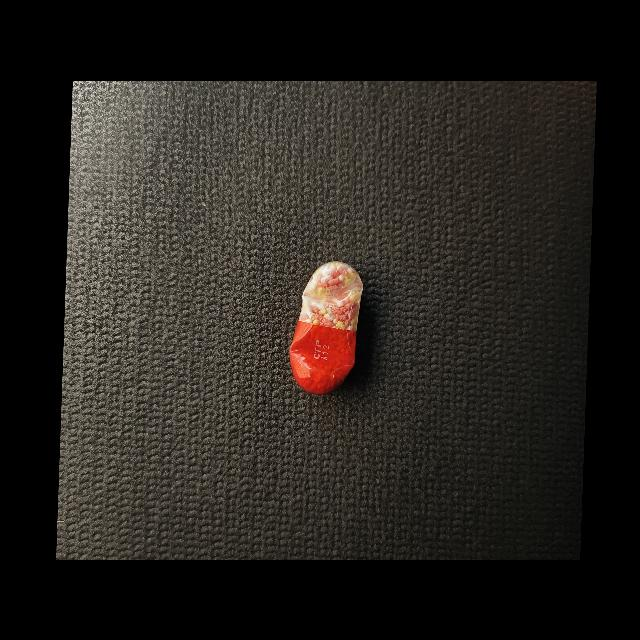Defective Capsule: (289, 261, 363, 394)
